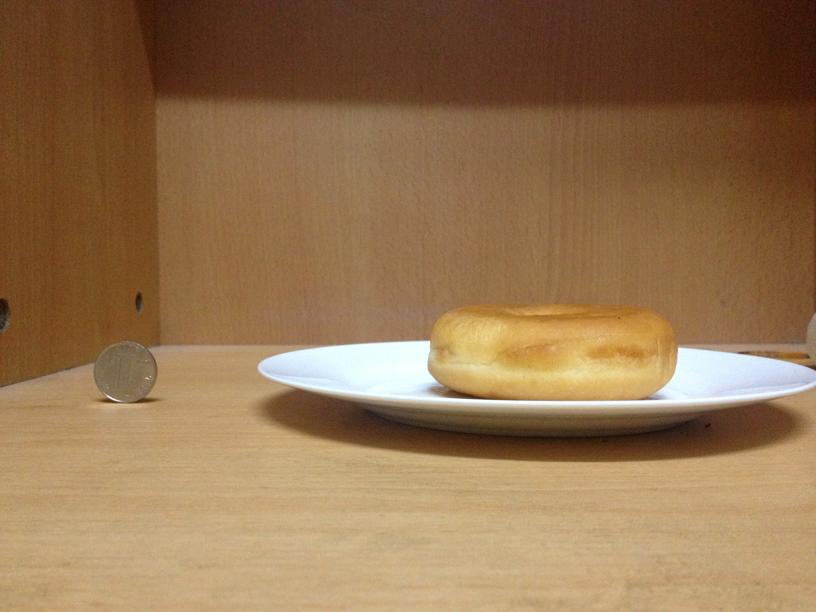coin: (92, 341, 156, 401)
doughnut: (421, 301, 677, 396)
